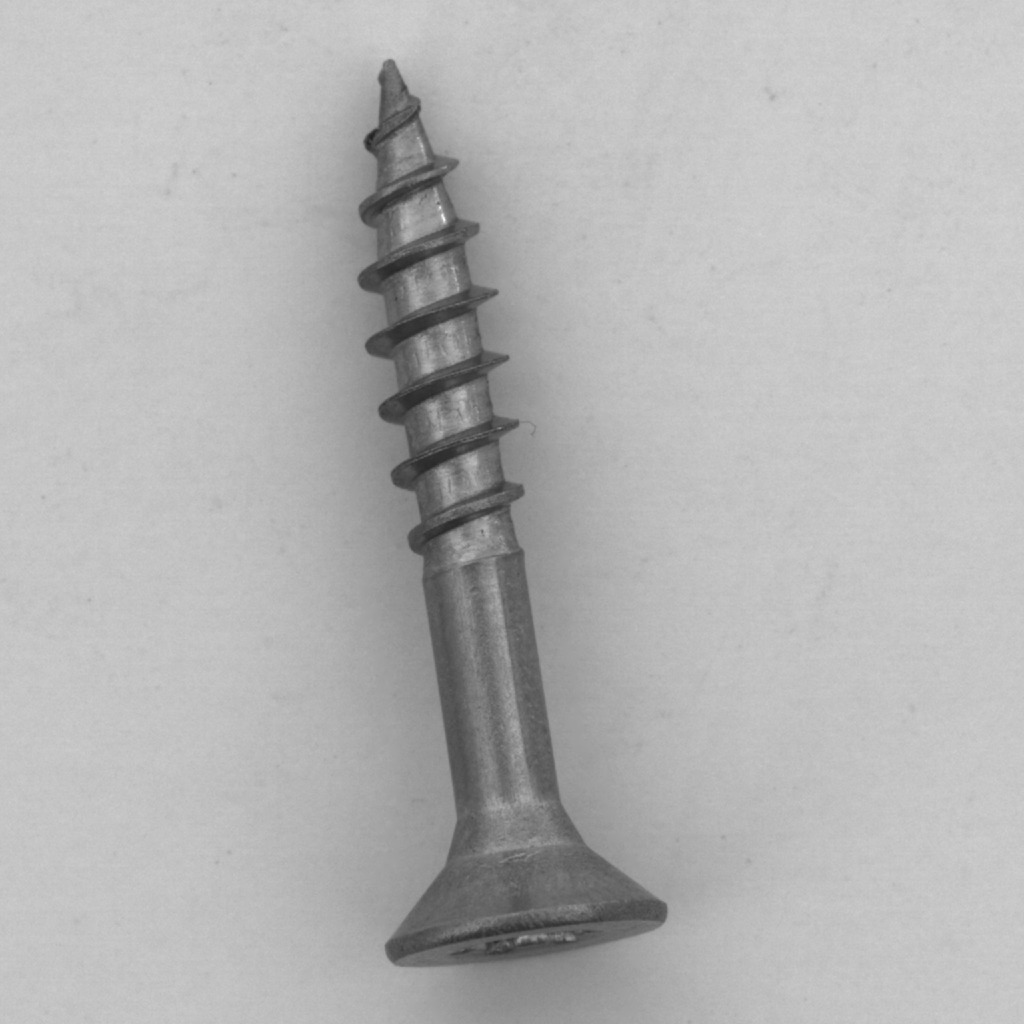good: (313, 37, 683, 988)
